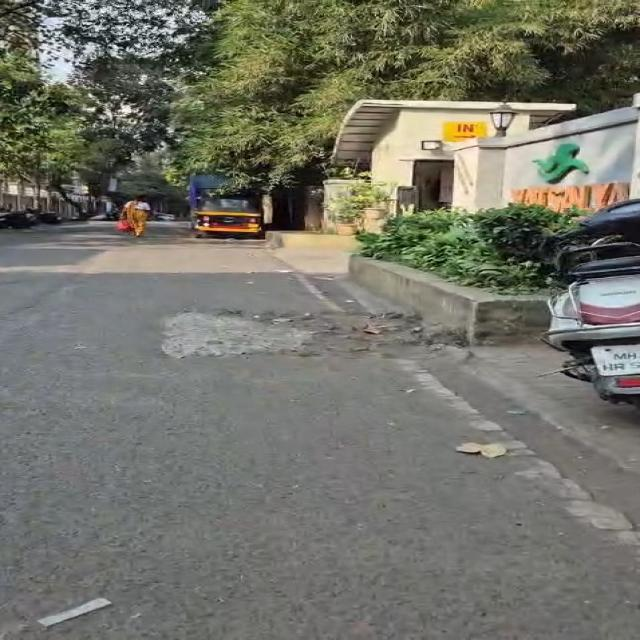bike: (543, 199, 639, 408)
